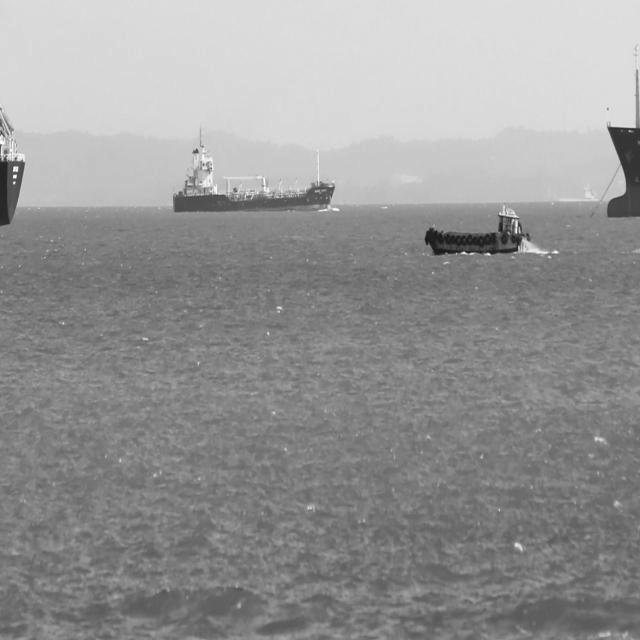ship: (172, 122, 336, 213), (424, 202, 532, 256), (606, 44, 639, 219), (0, 101, 25, 225)
